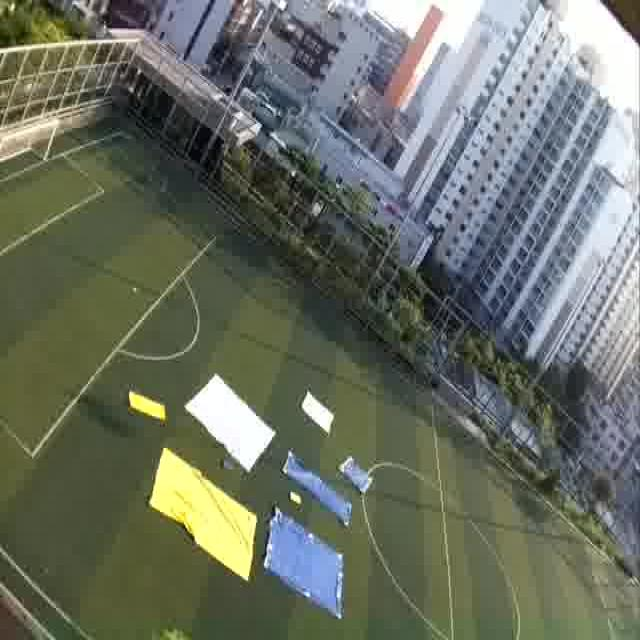danger: (268, 535, 346, 604), (276, 452, 331, 492), (341, 454, 375, 494)
safety: (197, 387, 276, 458), (301, 388, 339, 431)
warning: (154, 475, 256, 562), (128, 388, 166, 427)
